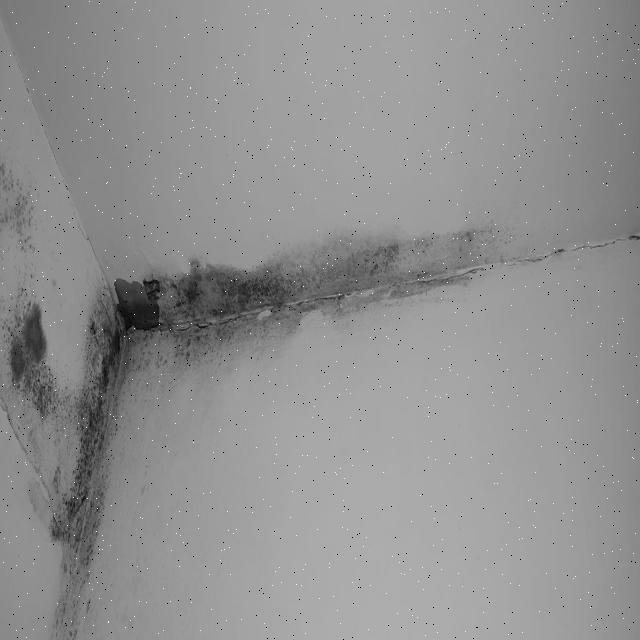stain marks: (82, 215, 516, 368), (44, 444, 116, 638), (1, 276, 58, 432), (58, 364, 141, 444), (0, 148, 45, 274), (7, 434, 44, 520), (140, 368, 190, 398)
